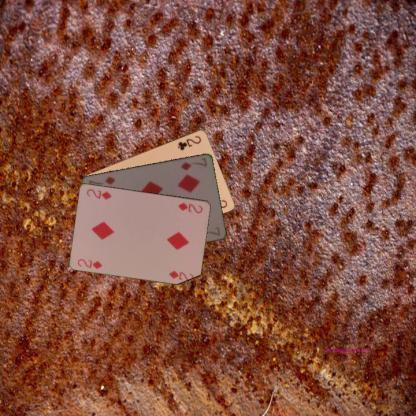2c: (175, 132, 202, 152)
2d: (176, 198, 204, 214), (75, 256, 104, 270)
7d: (178, 154, 209, 172)
